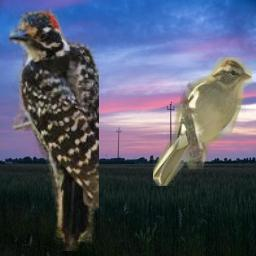Sparrow: (153, 57, 252, 186)
Woodpecker: (9, 8, 99, 251)
